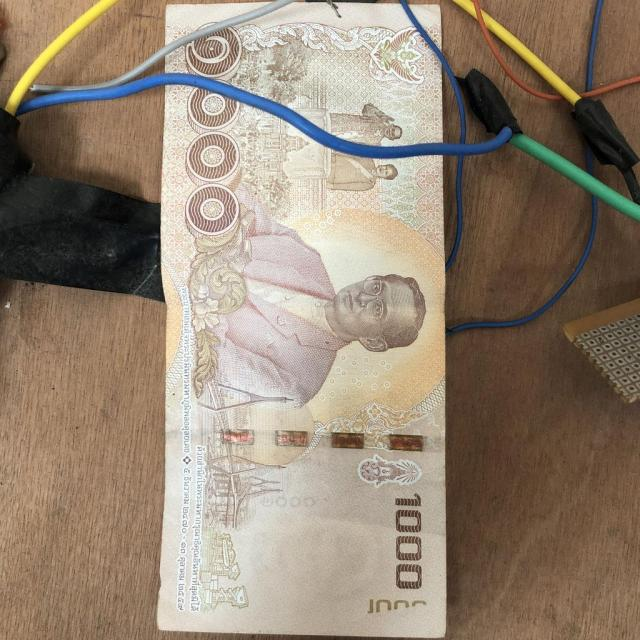THAI1000: (156, 86, 448, 639), (166, 1, 447, 148)
